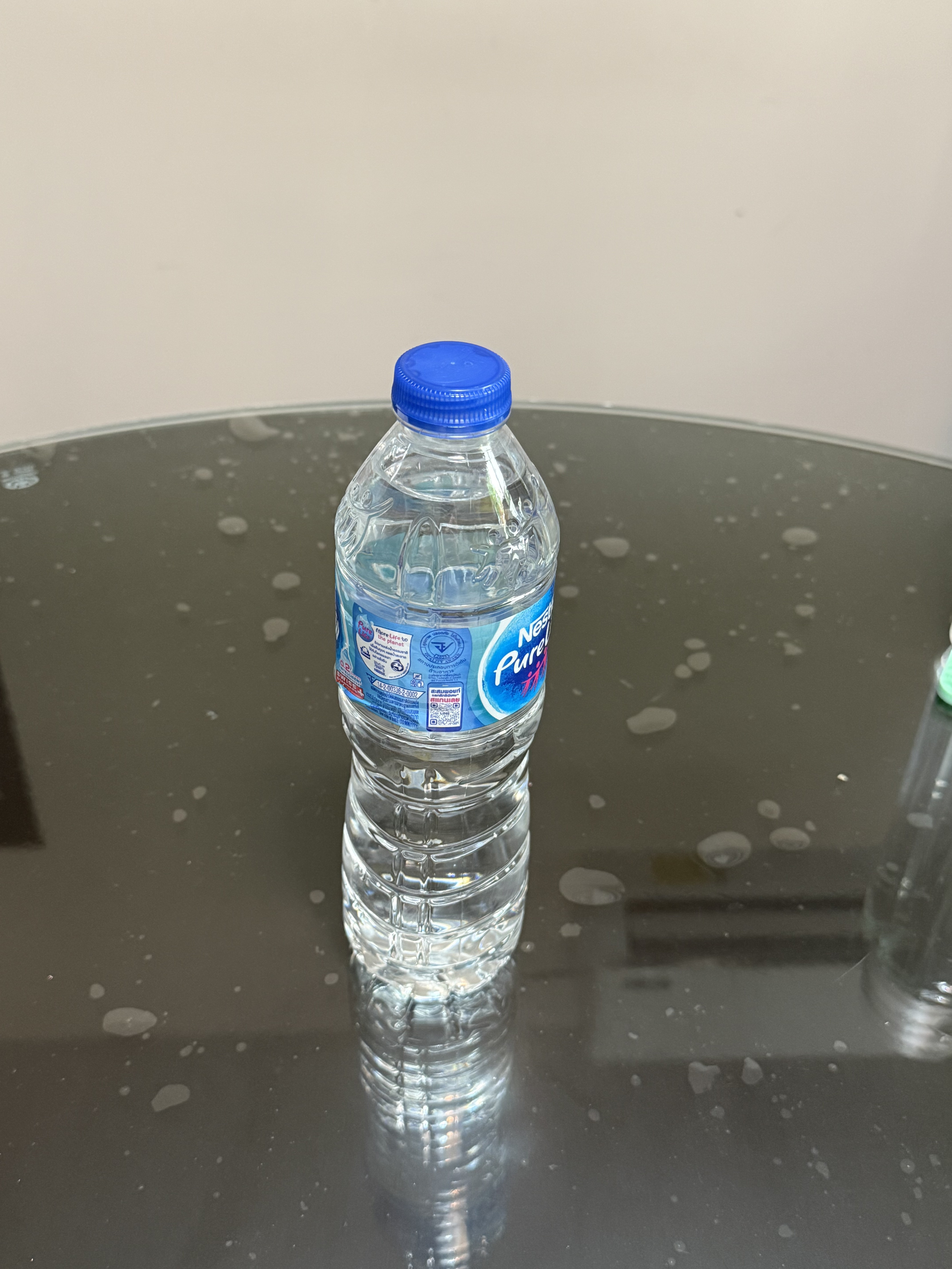closed_cap: (389, 338, 513, 436)
